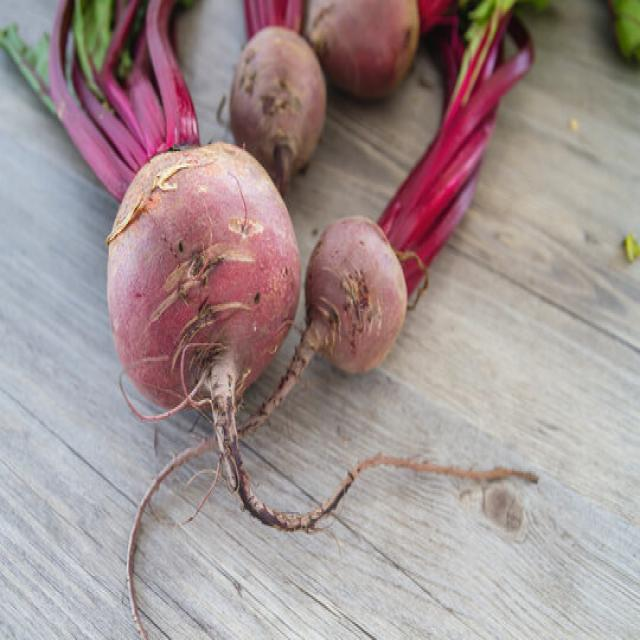Beetroot: (90, 113, 327, 380), (218, 23, 327, 194), (298, 211, 410, 370), (318, 0, 420, 96)
